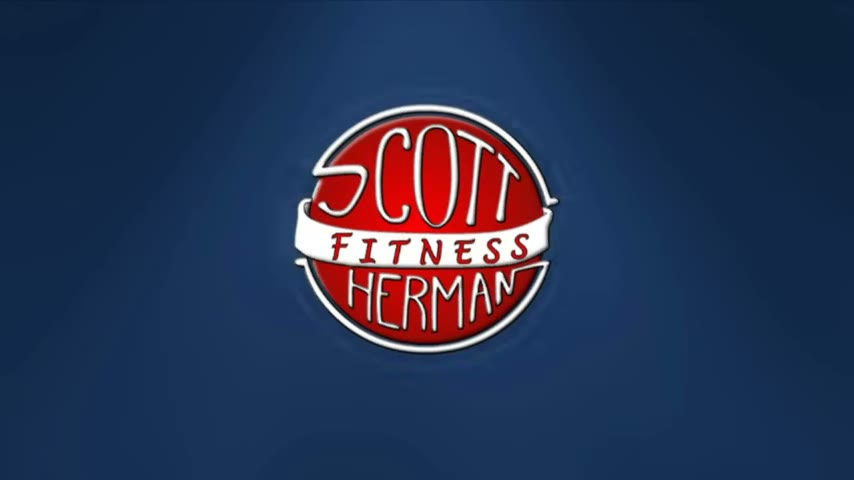barbell_plate_side: (289, 96, 372, 357)
